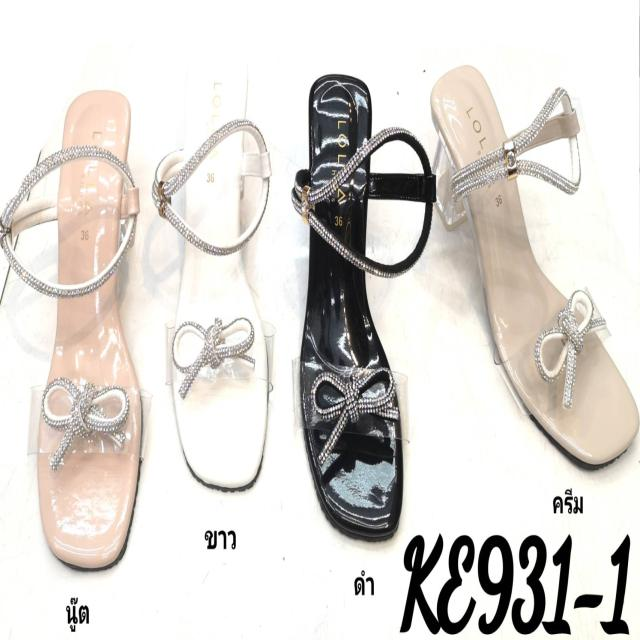black: (298, 70, 401, 540)
cream: (434, 56, 639, 472)
nood: (2, 87, 144, 570)
white: (158, 54, 271, 490)
